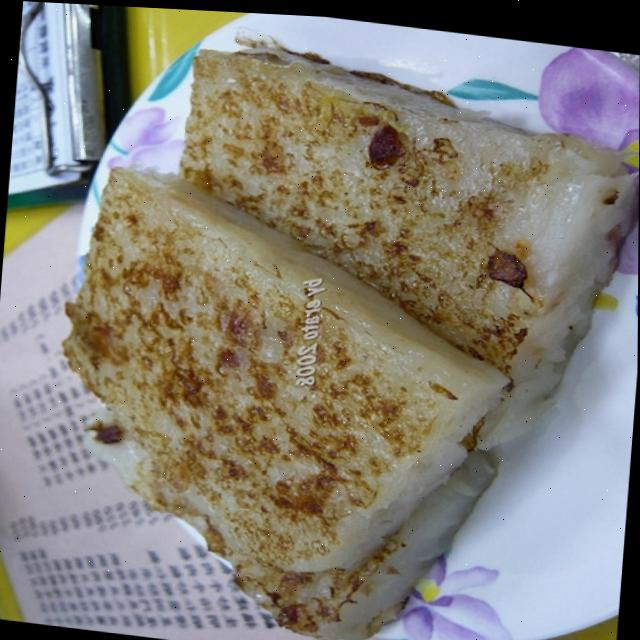蛋糕甜品: (33, 2, 640, 640)
